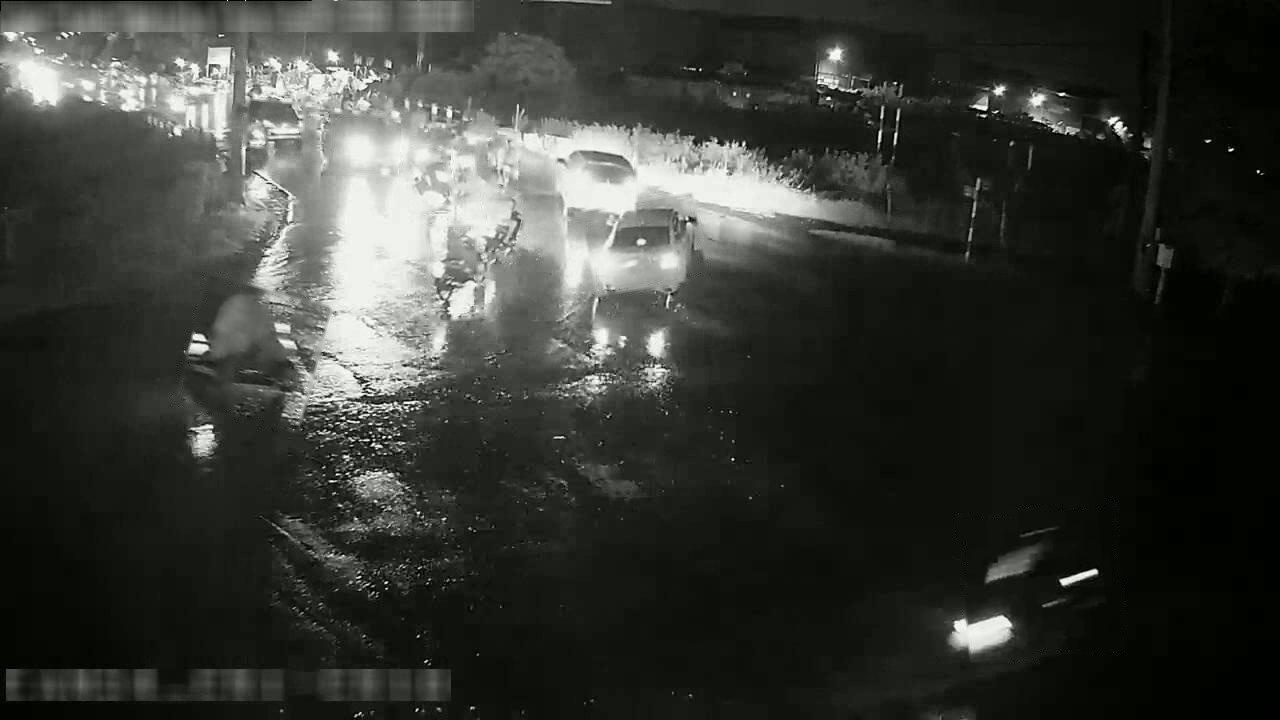Car: (593, 207, 696, 294), (557, 149, 637, 217), (324, 115, 405, 173), (248, 98, 302, 144)
Motorcyclist: (950, 524, 1112, 658), (184, 285, 313, 427), (430, 228, 483, 307), (482, 195, 523, 257), (411, 146, 451, 209), (491, 139, 514, 189), (452, 147, 477, 193)
